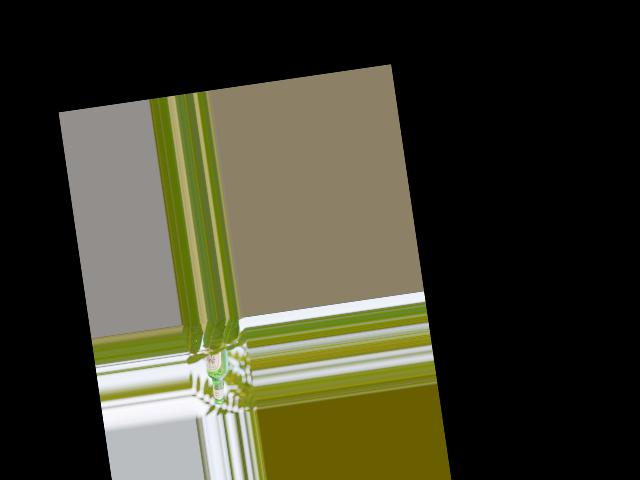beer: (202, 343, 233, 405)
